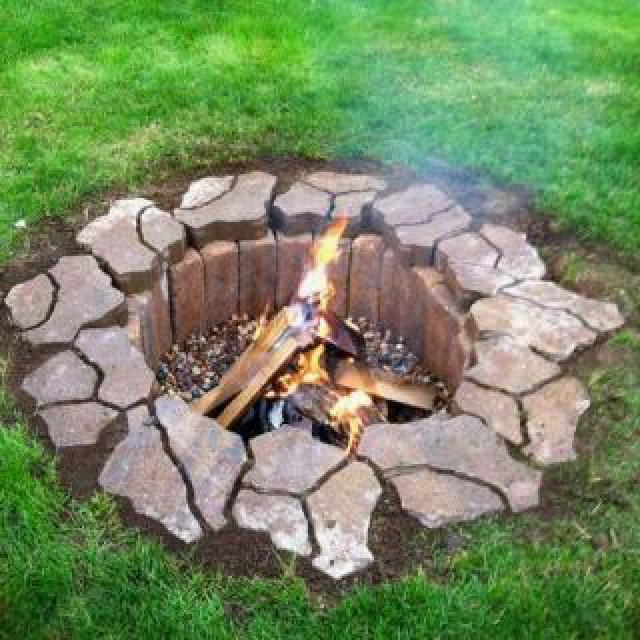Fire: (266, 238, 384, 424)
